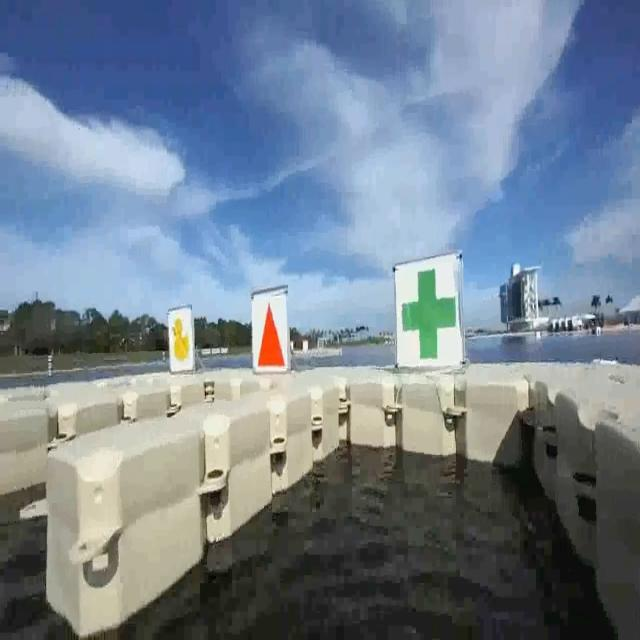blue-cross: (402, 266, 459, 366)
red-dot: (255, 293, 286, 369)
yellow-duck: (167, 309, 192, 365)
